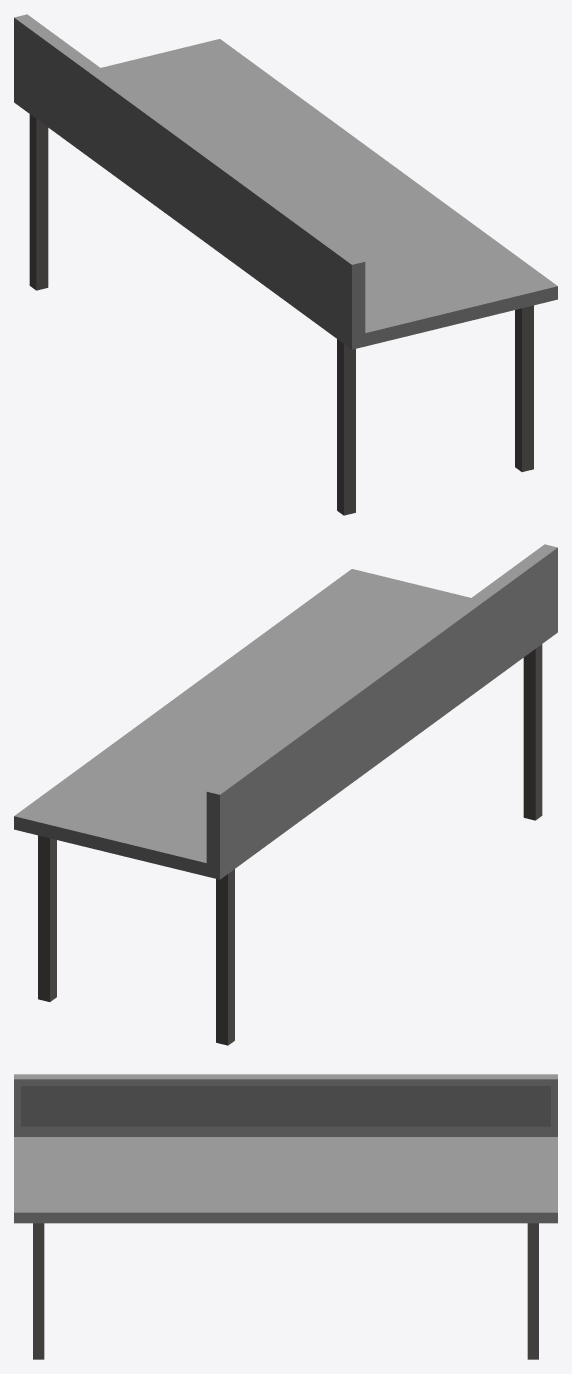
The model's file is SO_Desk_01.fbx.
3 renders of one model, top to bottom at view 1: azimuth 30°, elevation 25°; view 2: azimuth 150°, elevation 25°; view 3: azimuth 270°, elevation 25°, orthographic. The views are drawn at different scales.
Parts seen in each view (by area): view 1: SO_Desk_01; view 2: SO_Desk_01; view 3: SO_Desk_01.
Boxes of the visible parts, x1,y1,x2,y2 form: SO_Desk_01: (14, 14, 557, 515); SO_Desk_01: (14, 544, 557, 1045); SO_Desk_01: (14, 1074, 557, 1359).
Bounding box in the file's own units: 1.8 × 2.17 × 5.11.
